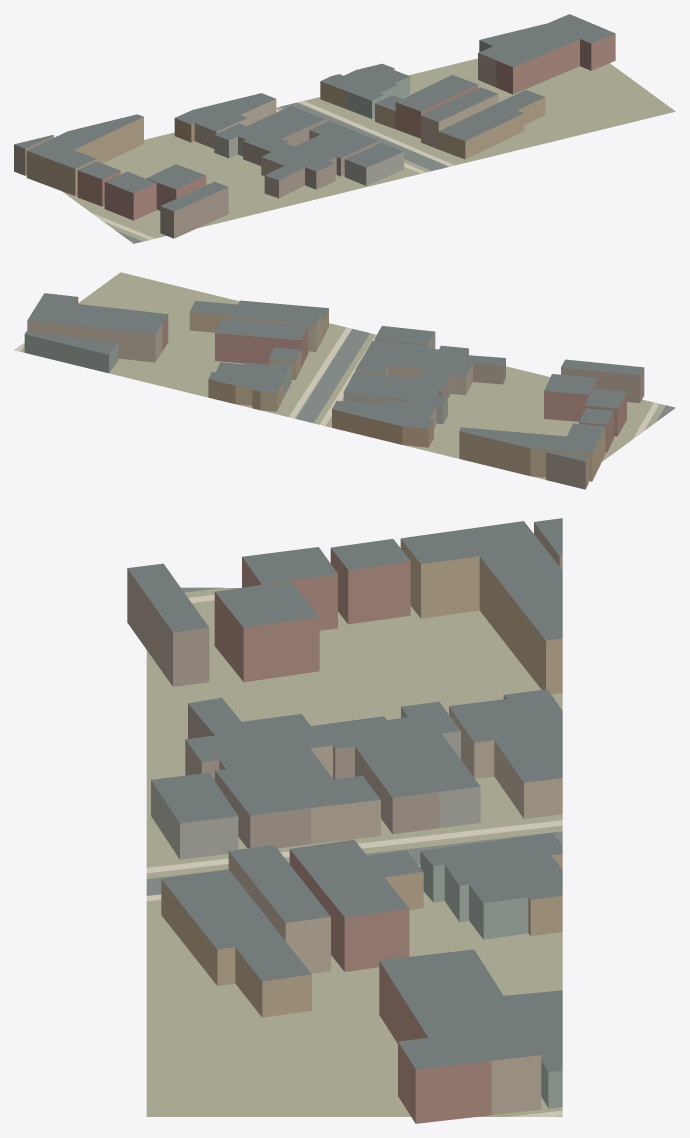
Rendered from sector--3_-8.glb.
3 views of the same model, one above another, from view 1: azimuth 30°, elevation 25°; view 2: azimuth 150°, elevation 25°; view 3: azimuth 270°, elevation 25° (orthographic). The views are drawn at different scales.
Visible parts, largest first — view 1: -3:-8-facade, -3:-8-roof, -3:-8-ground, -3:-8-road, -3:-8-paving; view 2: -3:-8-roof, -3:-8-facade, -3:-8-ground, -3:-8-road, -3:-8-paving; view 3: -3:-8-roof, -3:-8-ground, -3:-8-facade, -3:-8-paving, -3:-8-road.
Boxes of the visible parts, x1,y1,x2,y2 form: -3:-8-facade: (14, 33, 615, 238); -3:-8-roof: (14, 14, 615, 211); -3:-8-ground: (62, 58, 675, 241); -3:-8-road: (115, 102, 448, 243); -3:-8-paving: (92, 101, 454, 239); -3:-8-roof: (25, 293, 644, 461); -3:-8-facade: (24, 297, 644, 489); -3:-8-ground: (14, 272, 665, 479); -3:-8-road: (296, 329, 675, 423); -3:-8-paving: (15, 327, 659, 439); -3:-8-roof: (127, 518, 562, 1072); -3:-8-ground: (146, 588, 562, 1116); -3:-8-facade: (127, 522, 562, 1123); -3:-8-paving: (146, 594, 562, 1116); -3:-8-road: (146, 587, 562, 895).
Bounding box in the file's own units: 208 × 9.6 × 69.52.
